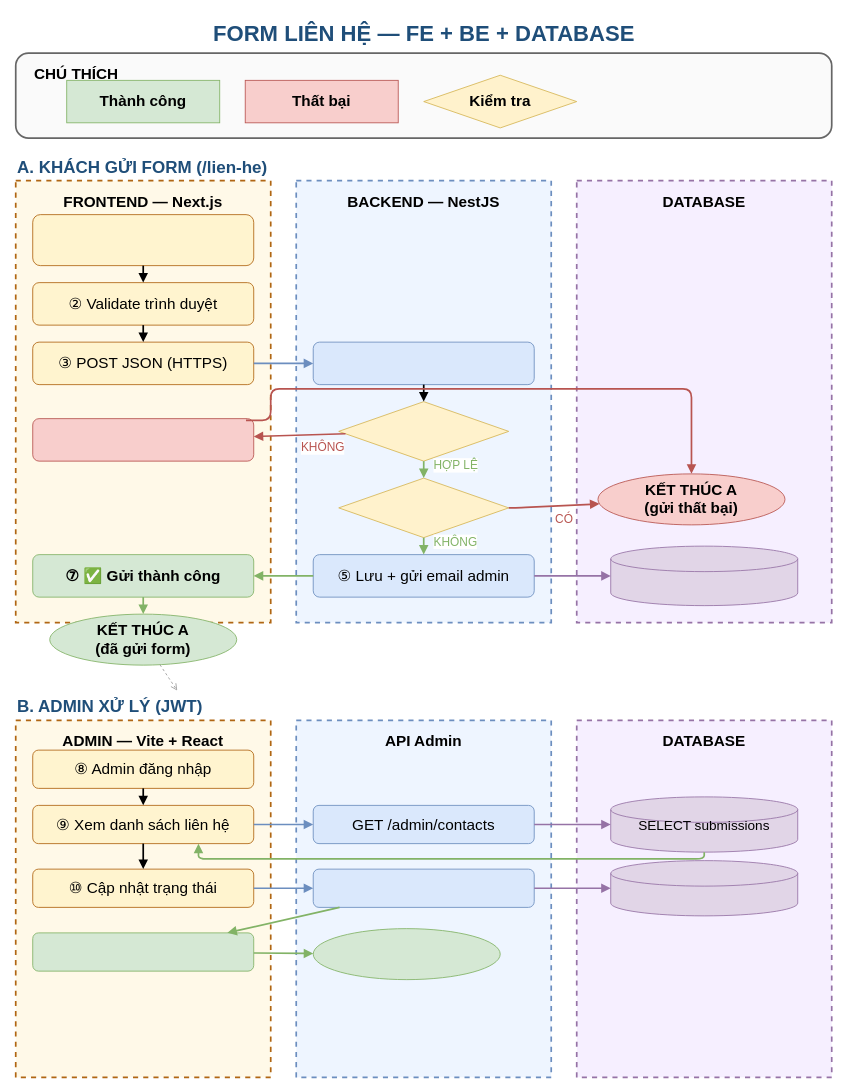
Some shapes in this 847 by 1092 pixel diagram are drawn without their labels. Here are the shapes that lost their labels. From the top down, the centre of each, then its label:
At [143,240]: "① Form /lien-he (Họ tên, SĐT, Email…)".
At [423,363]: "④ API tiếp nhận".
At [143,439]: "❌ Hiển thị lỗi form".
At [423,431]: "Dữ liệu hợp lệ?".
At [423,507]: "Spam / rate limit?".
At [704,575]: "⑥ INSERT status=NEW".
At [423,887]: "PATCH status".
At [704,888]: "UPDATE DB".
At [143,951]: "⑪ ✅ UI cập nhật".
At [406,954]: "KẾT THÚC B (đã xử lý)".
